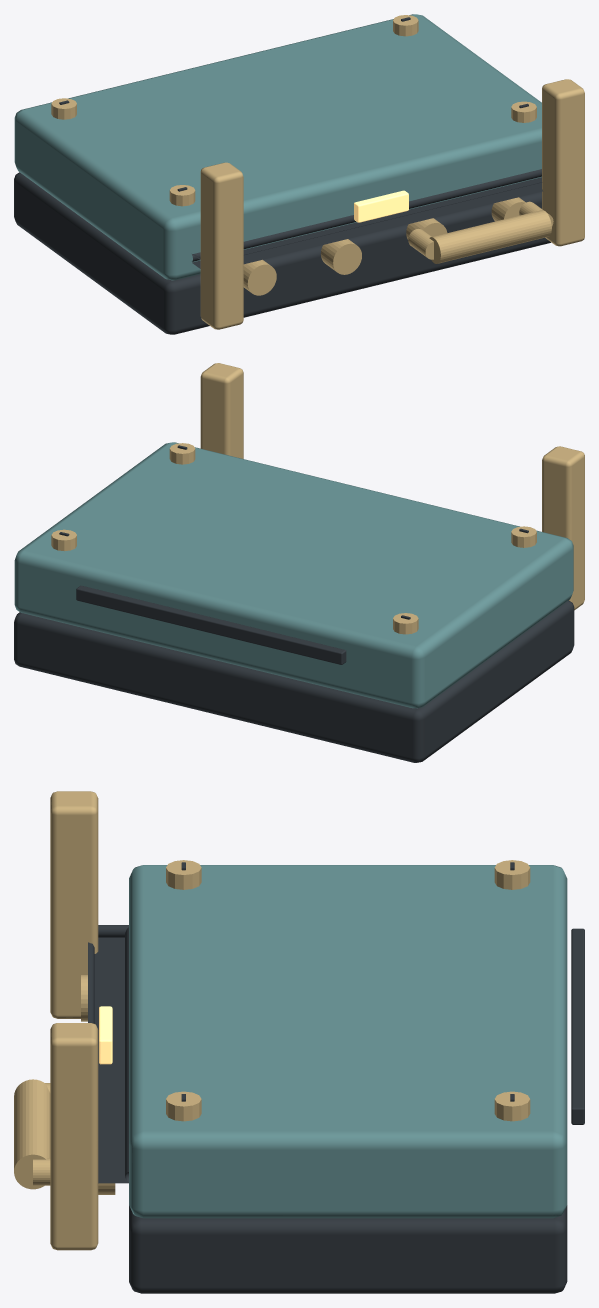
Rendered from abandoned-cinema-and-projection-booth-abandoned-cinema-2f94006a__29715.glb.
The picture shows the model from 3 angles, top to bottom: view 1: azimuth 30°, elevation 25°; view 2: azimuth 150°, elevation 25°; view 3: azimuth 270°, elevation 25°; orthographic projection. The views are drawn at different scales.
Visible parts, largest first — view 1: abandoned-cinema-and-projection-booth-amplifier; view 2: abandoned-cinema-and-projection-booth-amplifier; view 3: abandoned-cinema-and-projection-booth-amplifier.
Part boxes in pixels (bbox=[...]): abandoned-cinema-and-projection-booth-amplifier: bbox=[14, 14, 584, 334]; abandoned-cinema-and-projection-booth-amplifier: bbox=[14, 363, 584, 762]; abandoned-cinema-and-projection-booth-amplifier: bbox=[14, 791, 584, 1293].
Size of the model in its own units: 0.48 by 0.1975 by 0.417.
